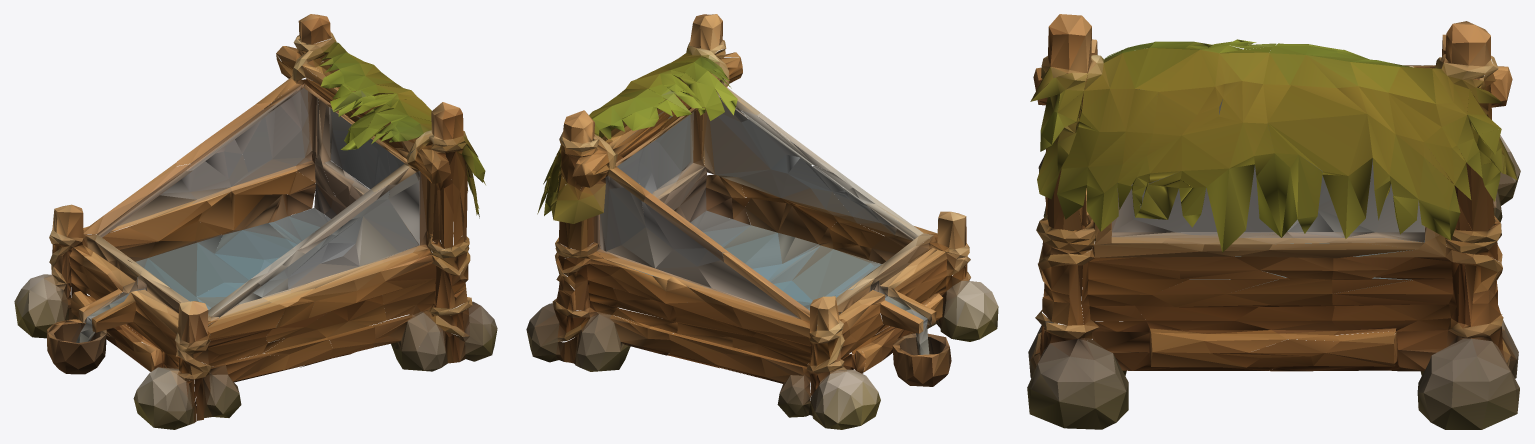
File: building-solarStill.glb
3 views of the same model, side by side, from view 1: azimuth 30°, elevation 25°; view 2: azimuth 150°, elevation 25°; view 3: azimuth 270°, elevation 25° (orthographic). The views are drawn at different scales.
Parts seen in each view (by area): view 1: 0_solarStill; view 2: 0_solarStill; view 3: 0_solarStill.
Part boxes in pixels (bbox=[...]): 0_solarStill: bbox=[14, 14, 497, 429]; 0_solarStill: bbox=[526, 14, 998, 429]; 0_solarStill: bbox=[1027, 14, 1520, 429].
Bounding box in the file's own units: 1.53 × 1 × 1.16.
